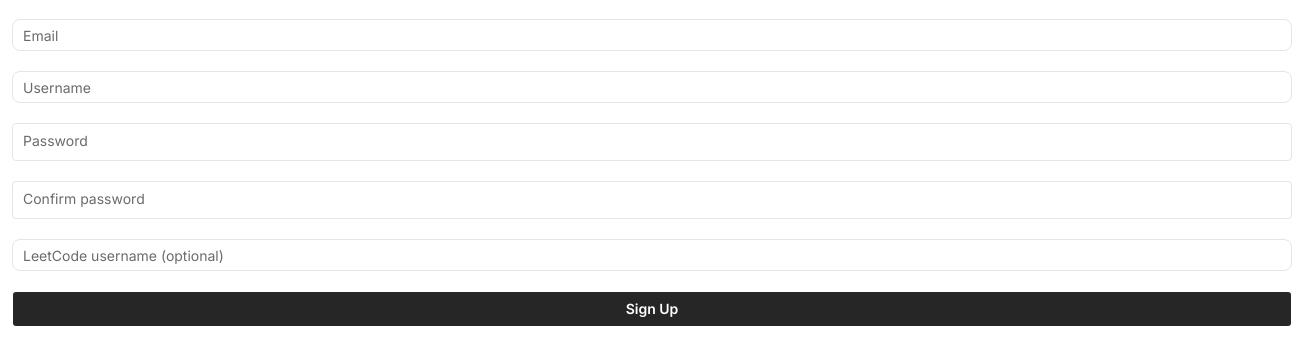
Test: SignupForm › shows an error under email when the account already exists
Type "alex@example.com" into the field with placeholder "Email".
click(652, 35); type("alex@example.com")  # box [12, 19, 1292, 51]
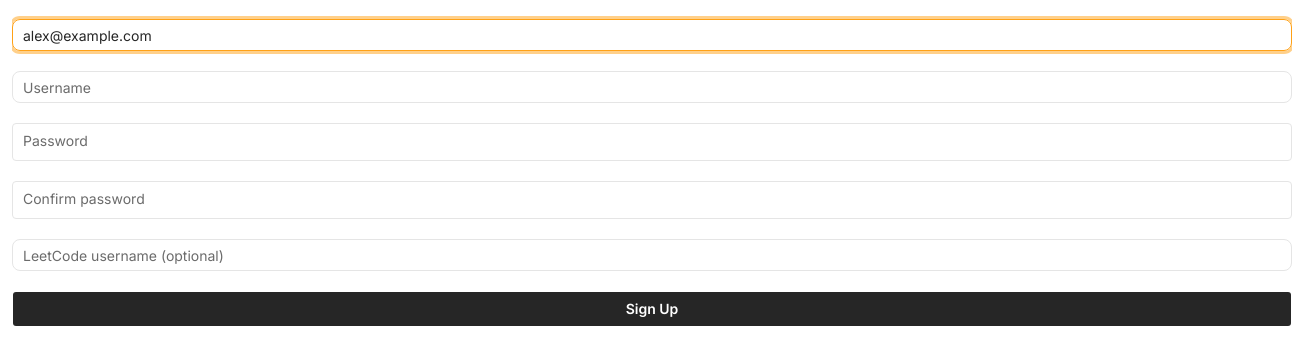
Type "alex_dev" into the field with placeholder "Username".
click(652, 87); type("alex_dev")  # box [12, 71, 1292, 103]
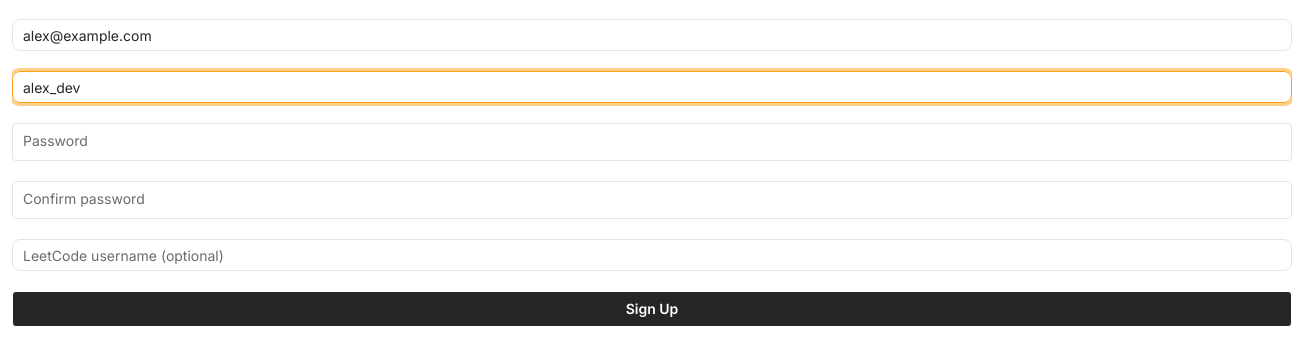
Type "password123" into the password field with placeholder "Password".
click(633, 140); type("password123")  # box [13, 124, 1252, 156]
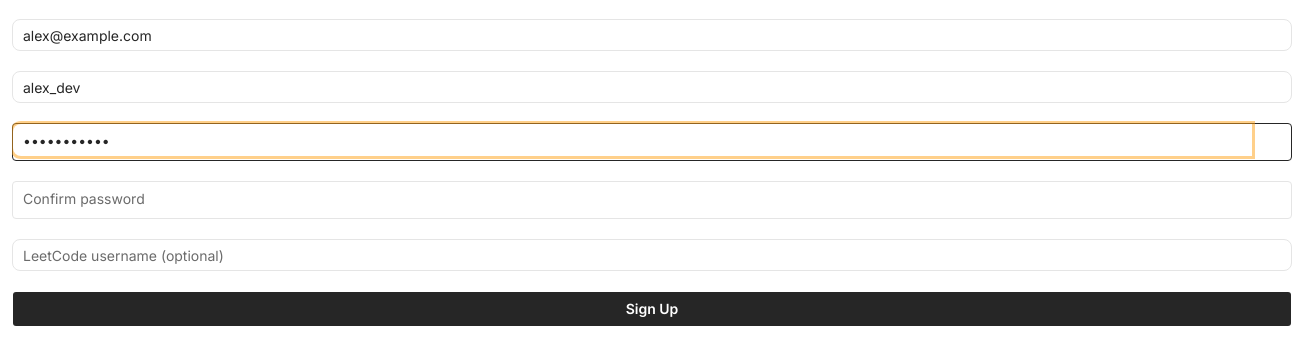
Type "password123" into the password field with placeholder "Confirm password".
click(633, 198); type("password123")  # box [13, 182, 1252, 214]
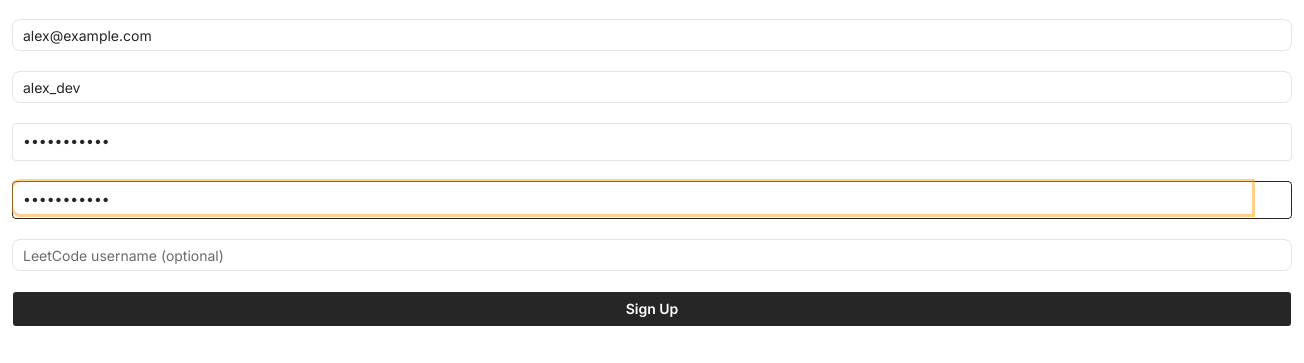
Click the button "Sign Up".
click(652, 309)  # box [12, 291, 1292, 327]
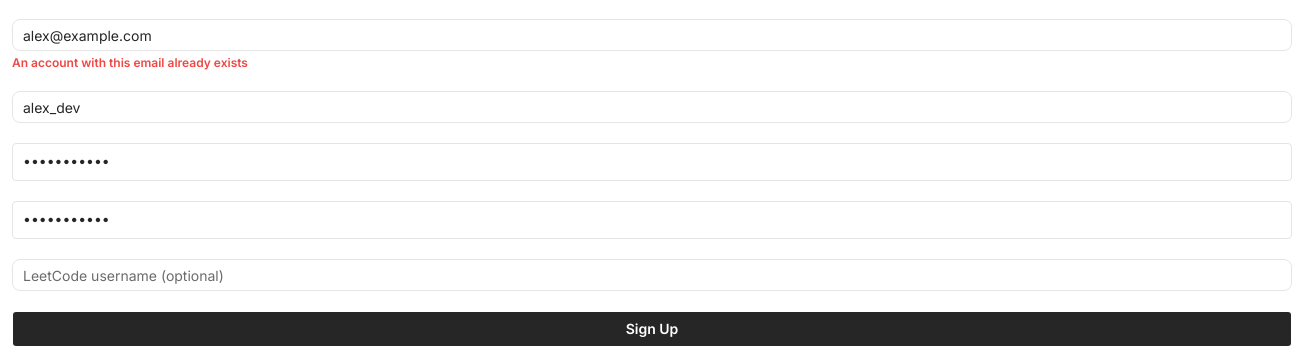
Result: the text "An account with this email already exists" is shown at [12, 55, 248, 70]
